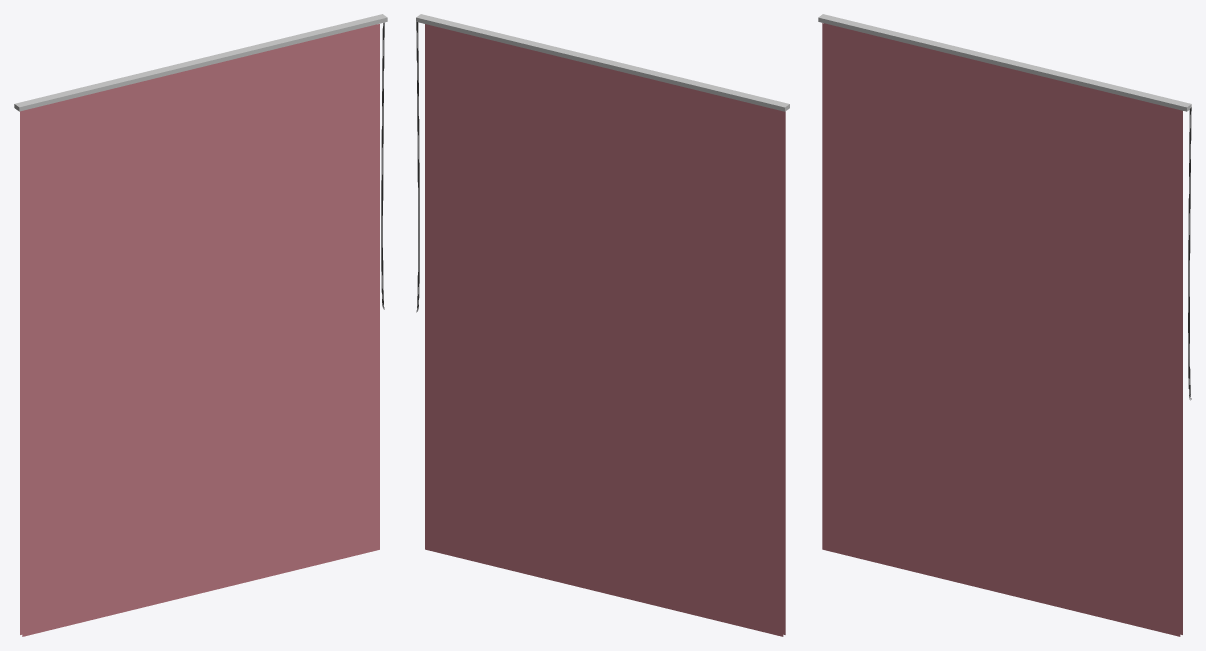
File: JapaneseCurtain2.fbx
The picture shows the model from 3 angles, left to right: view 1: azimuth 30°, elevation 25°; view 2: azimuth 150°, elevation 25°; view 3: azimuth 330°, elevation 25°; orthographic projection.
Visible parts, largest first — view 1: String_2; view 2: String_2; view 3: String_2.
Part boxes in pixels (x1=…): String_2: x1=14, y1=14, x2=387, y2=636; String_2: x1=416, y1=14, x2=789, y2=636; String_2: x1=818, y1=14, x2=1191, y2=636.
Size of the model in its own units: 132 by 182 by 3.
